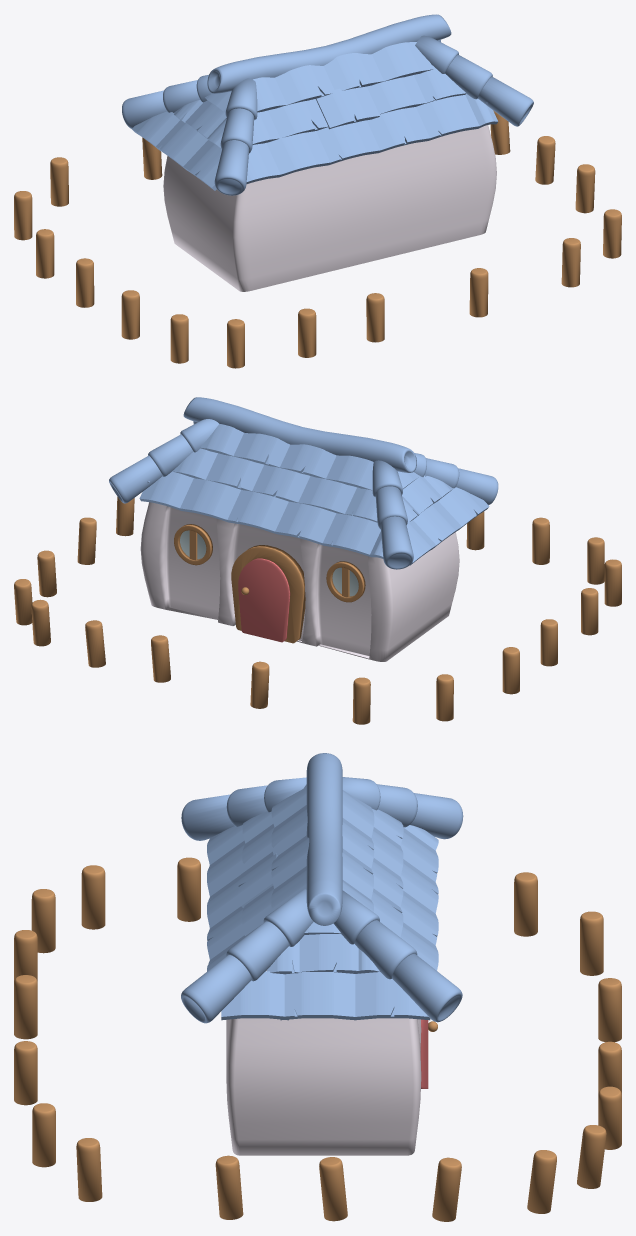
Rendered from Haus.002.fbx.
3 views of the same model, one above another, from view 1: azimuth 30°, elevation 25°; view 2: azimuth 150°, elevation 25°; view 3: azimuth 270°, elevation 25° (orthographic). The views are drawn at different scales.
Visible parts, largest first — view 1: Haus3; view 2: Haus3; view 3: Haus3.
Part boxes in pixels (box(x1,y1,x2,y2)): Haus3: box(14, 14, 621, 368); Haus3: box(14, 397, 621, 724); Haus3: box(14, 753, 621, 1221).
Bounding box in the file's own units: 720 × 282 × 597.
